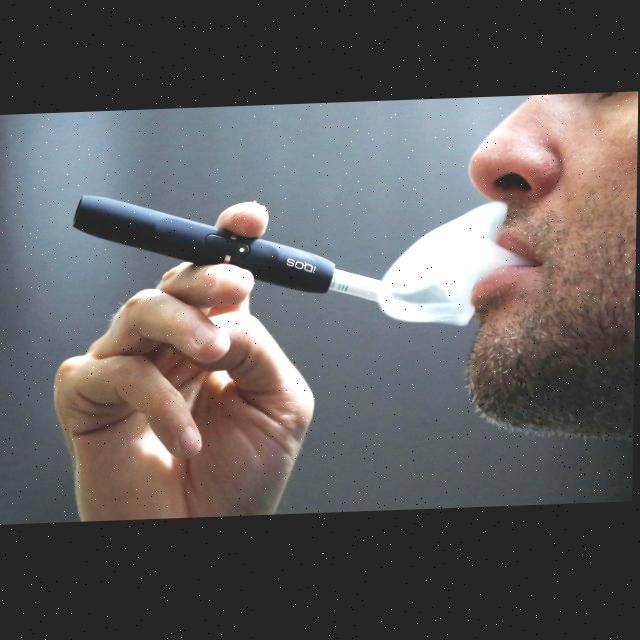vape: (71, 186, 389, 315)
